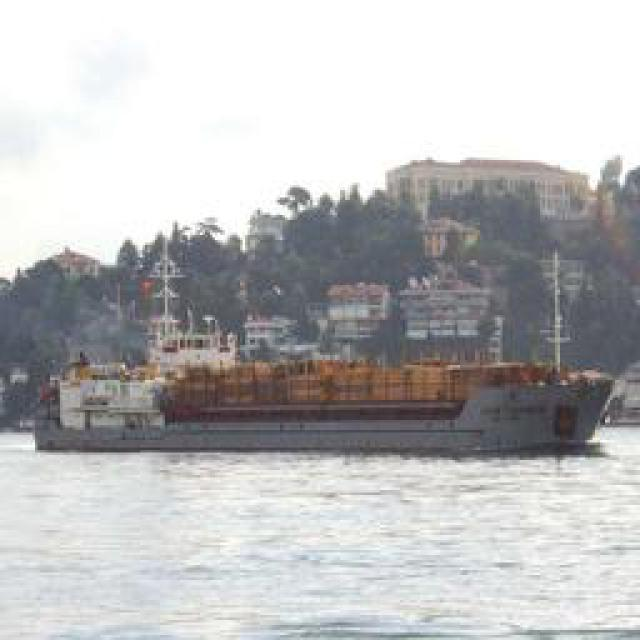Ship: (45, 357, 615, 457)
